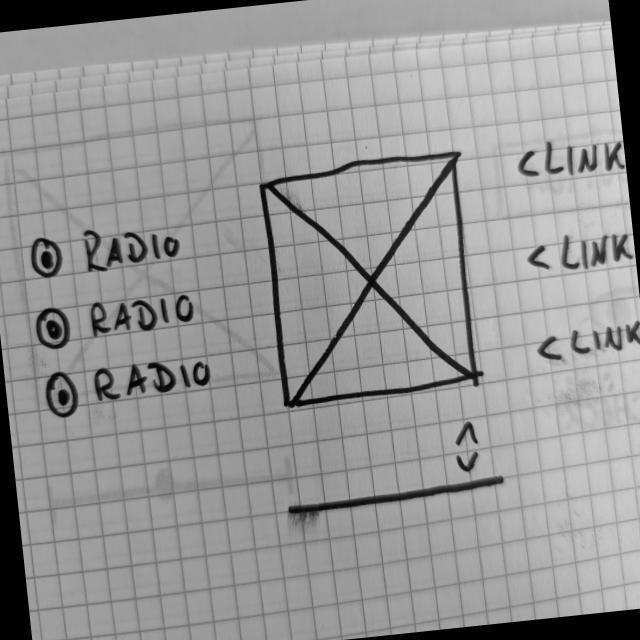image: (255, 146, 488, 419)
link: (514, 128, 628, 187), (521, 224, 637, 279), (532, 316, 640, 369)
number-input: (277, 410, 510, 522)
radio: (32, 302, 75, 354), (44, 370, 81, 422), (30, 232, 67, 282)
